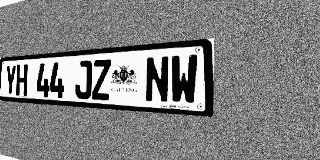4: (50, 62, 65, 98), (36, 63, 50, 97)
H: (16, 64, 28, 96)
J: (75, 60, 92, 100)
N: (145, 56, 170, 104)
W: (170, 54, 198, 105)
Y: (5, 65, 16, 96)
Z: (92, 59, 111, 100)
